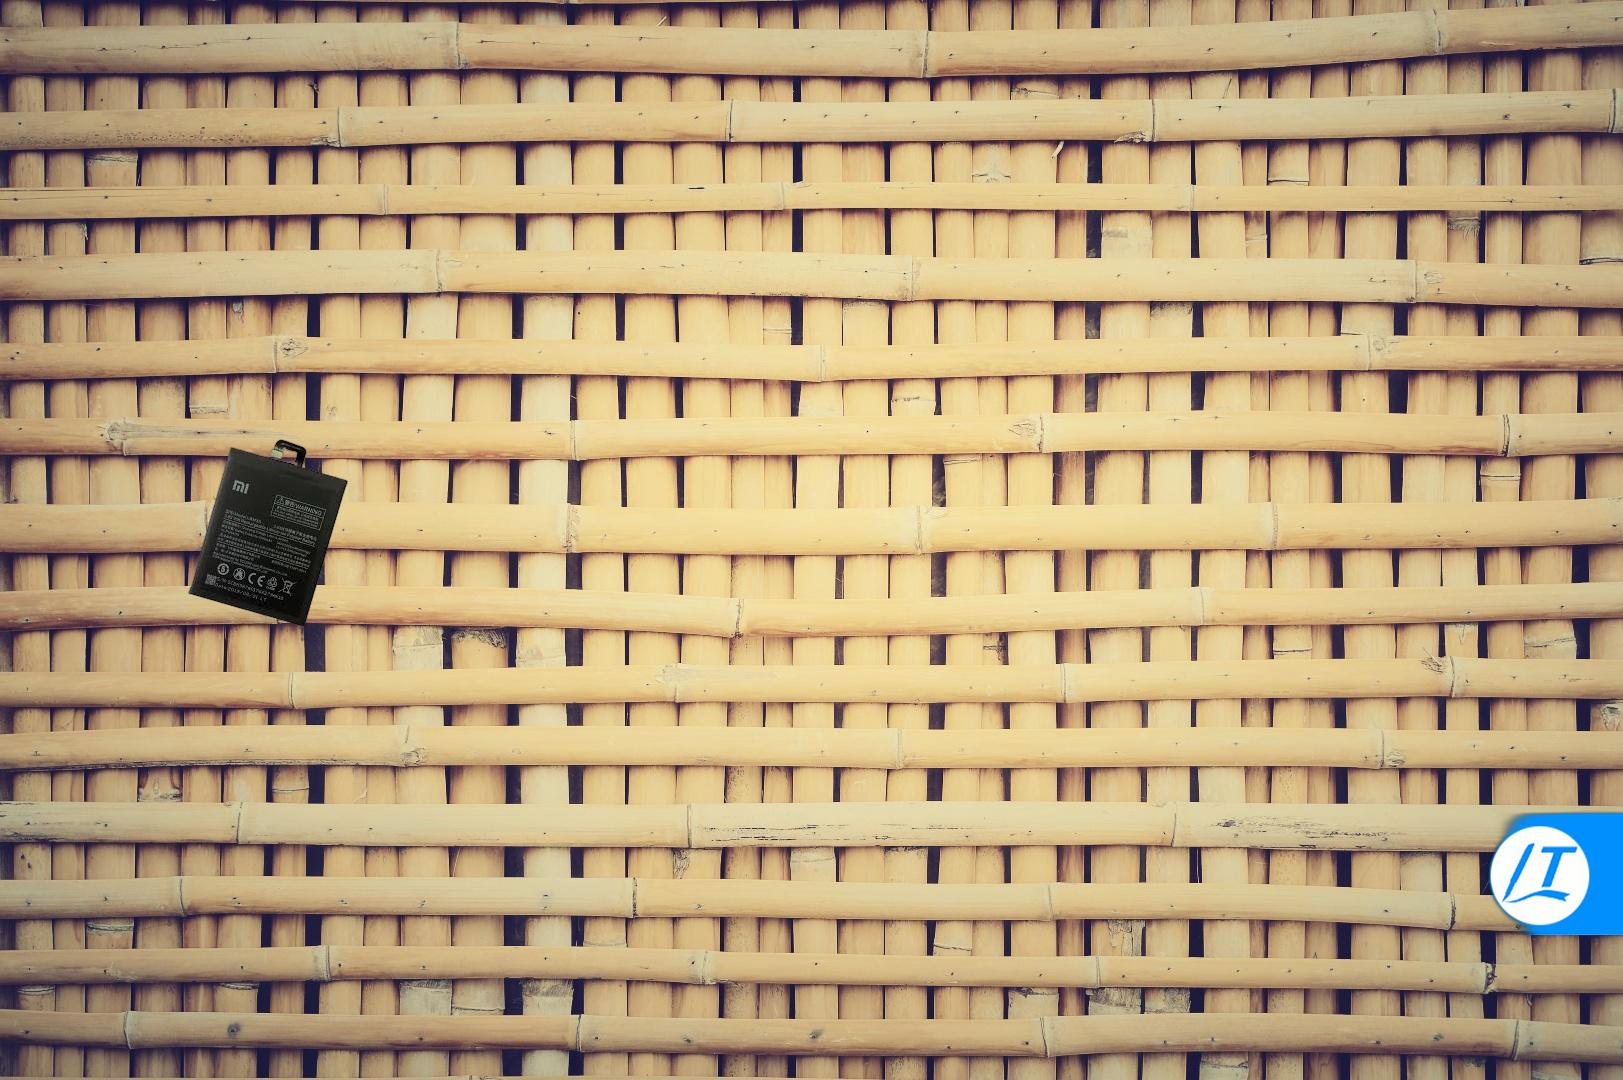battery: (186, 438, 349, 629)
penholder: (1468, 206, 1623, 935)
